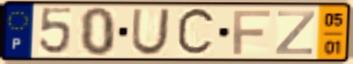0: (76, 6, 119, 58)
5: (37, 6, 74, 58)
C: (175, 5, 218, 59)
F: (232, 9, 273, 56)
U: (129, 7, 173, 57)
Z: (273, 9, 318, 57)
